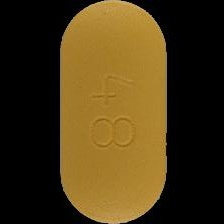68788-9966: (0, 0, 224, 224)
